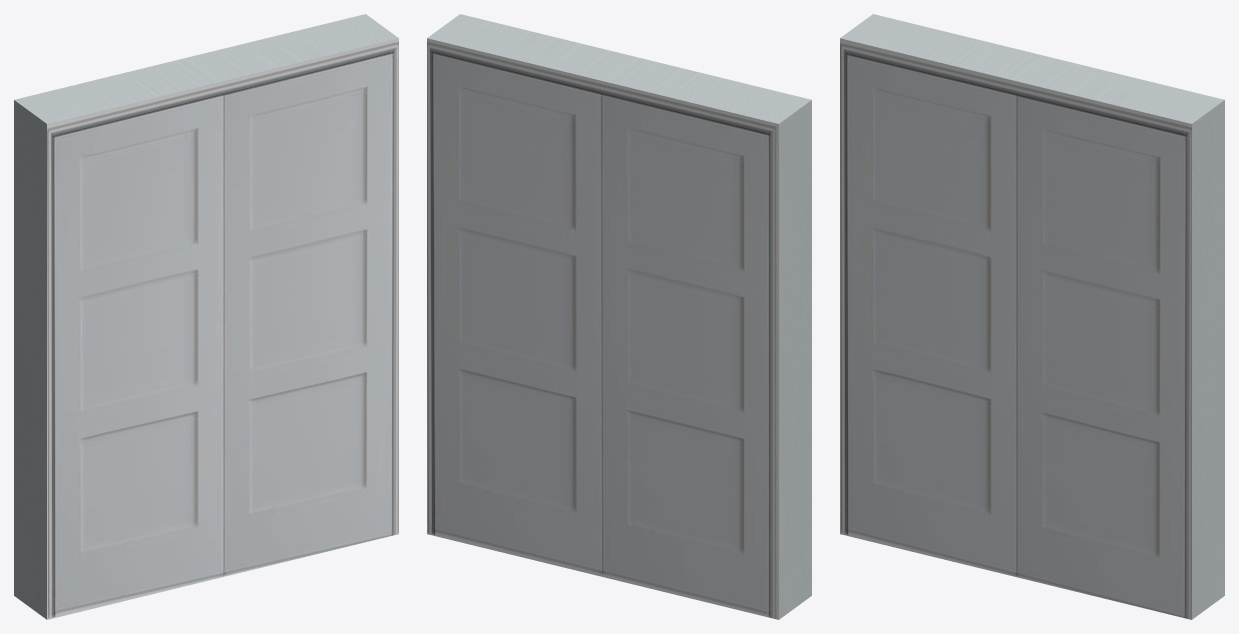
The model's file is entrada.obj.
The picture shows the model from 3 angles, left to right: view 1: azimuth 30°, elevation 25°; view 2: azimuth 150°, elevation 25°; view 3: azimuth 330°, elevation 25°; orthographic projection.
Parts seen in each view (by area): view 1: pCube6; view 2: pCube6; view 3: pCube6.
Part boxes in pixels (x1,y1,x2,y2): pCube6: (14,14,398,619); pCube6: (427,14,811,619); pCube6: (840,14,1224,619).
Bounding box in the file's own units: 2.92 × 3.93 × 0.475.
Materials: 2 (2 with a texture image).
